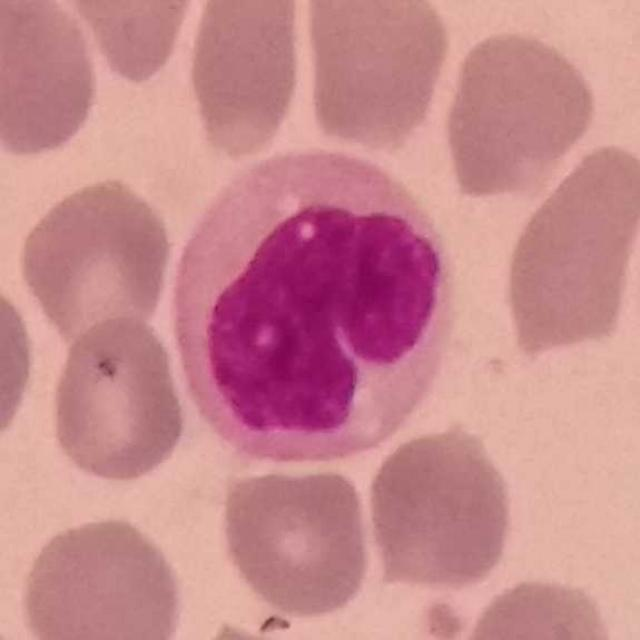Monocyte: (166, 148, 467, 464)
Platelets: (418, 594, 474, 640)
RBC: (496, 137, 640, 361), (437, 25, 601, 202), (13, 172, 176, 348), (360, 420, 520, 593), (215, 458, 375, 622), (44, 313, 192, 486), (296, 0, 455, 155), (15, 511, 189, 640), (182, 0, 312, 163), (0, 0, 105, 163), (28, 0, 208, 87), (445, 571, 622, 640), (0, 268, 40, 459)
